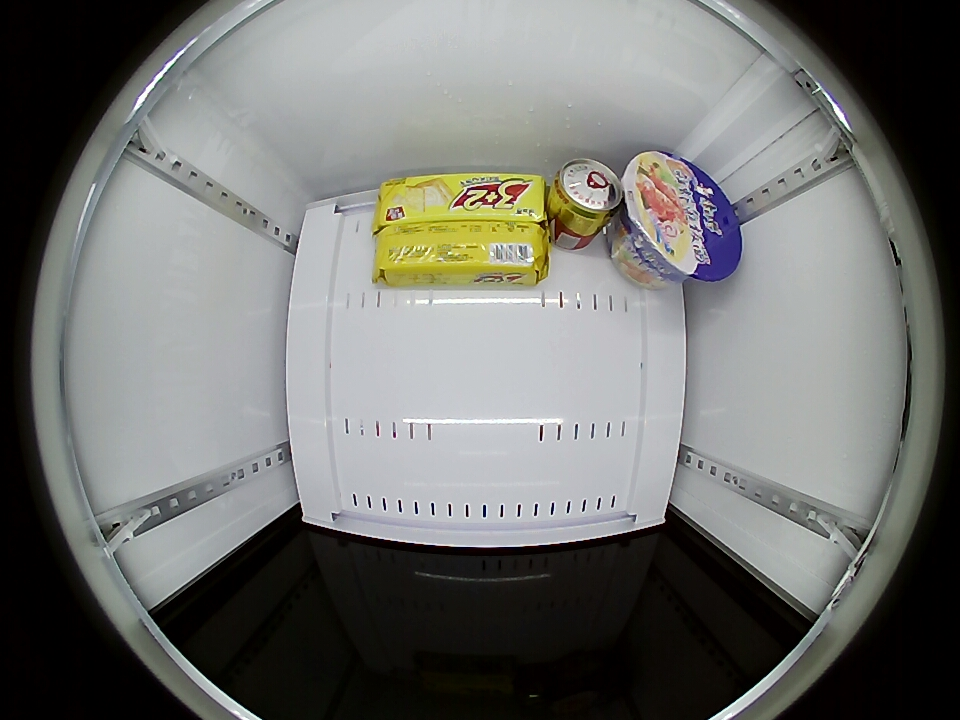3+2-2: (375, 223, 548, 285), (375, 173, 548, 226)
dongpeng: (549, 157, 623, 223)
xianxiayuban: (622, 150, 742, 283)
